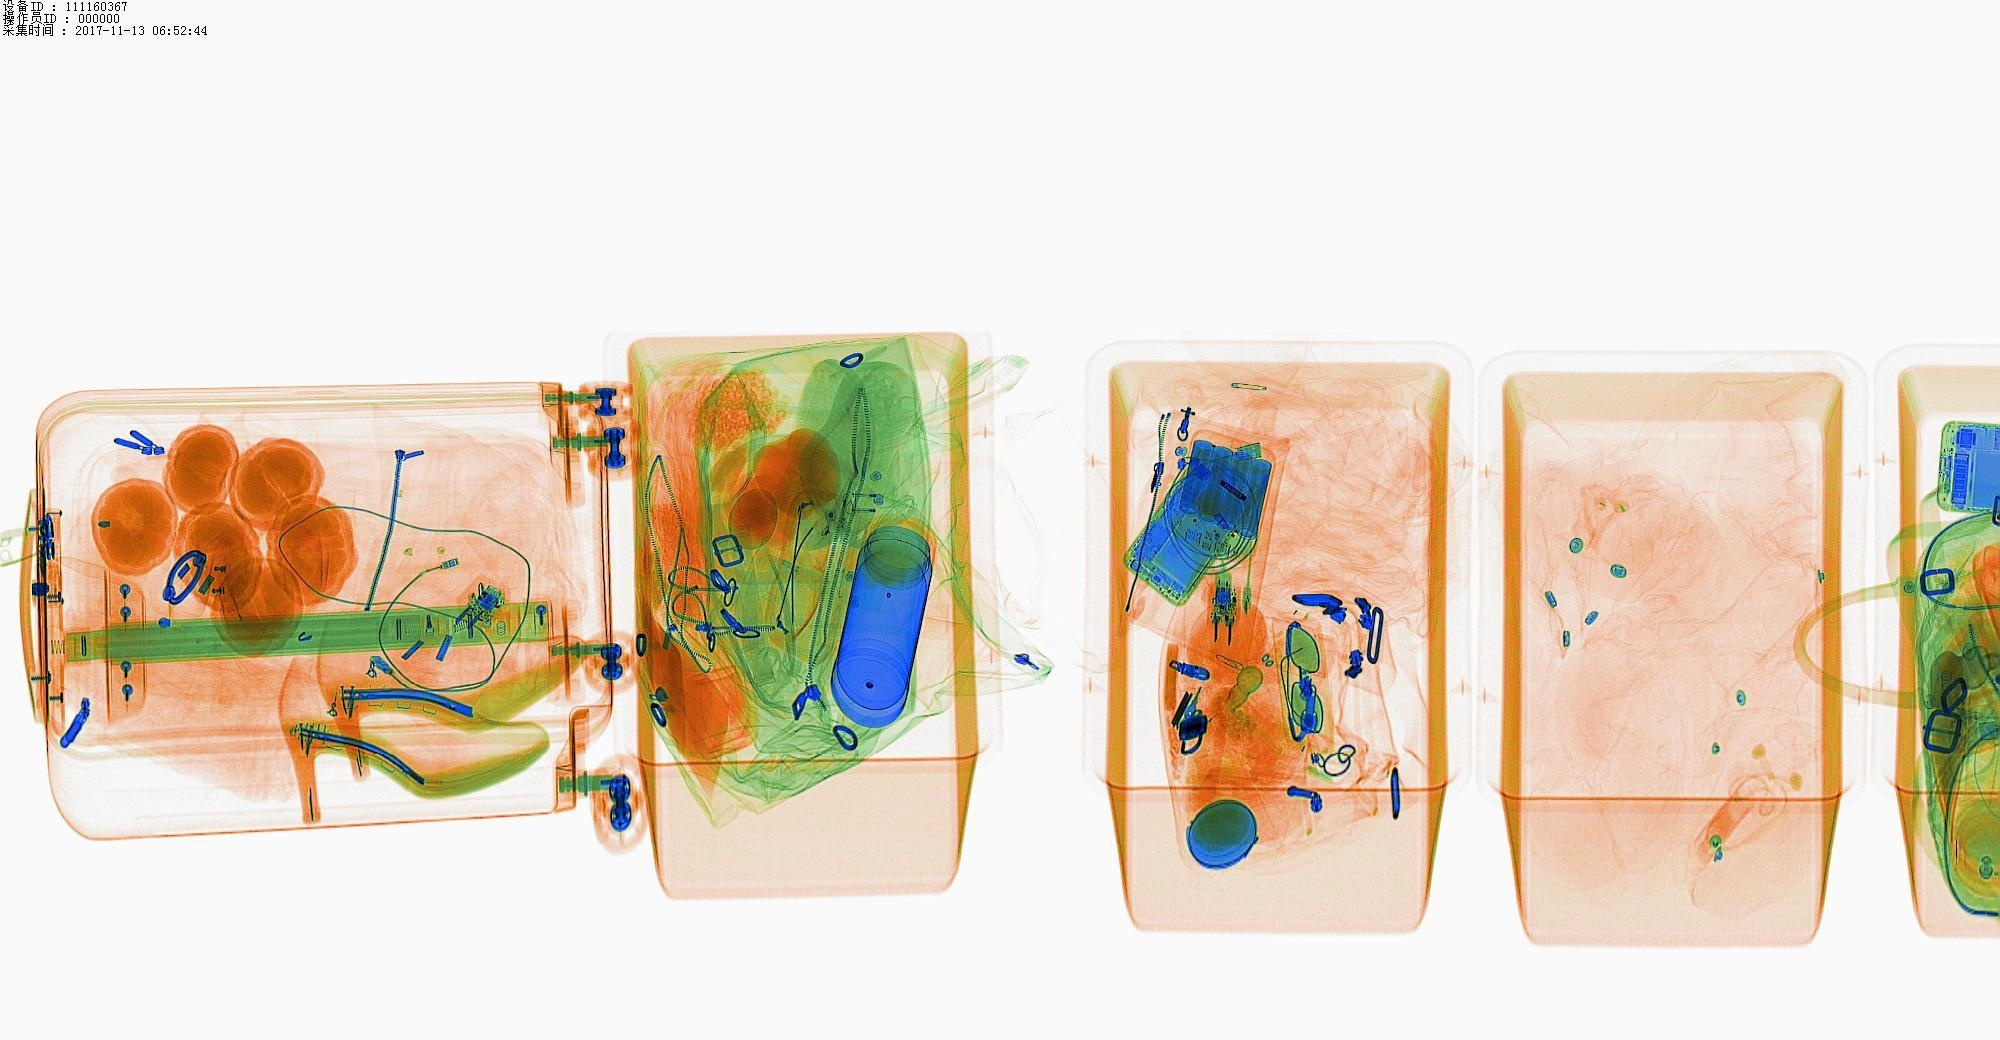core: (1181, 435, 1276, 535)
